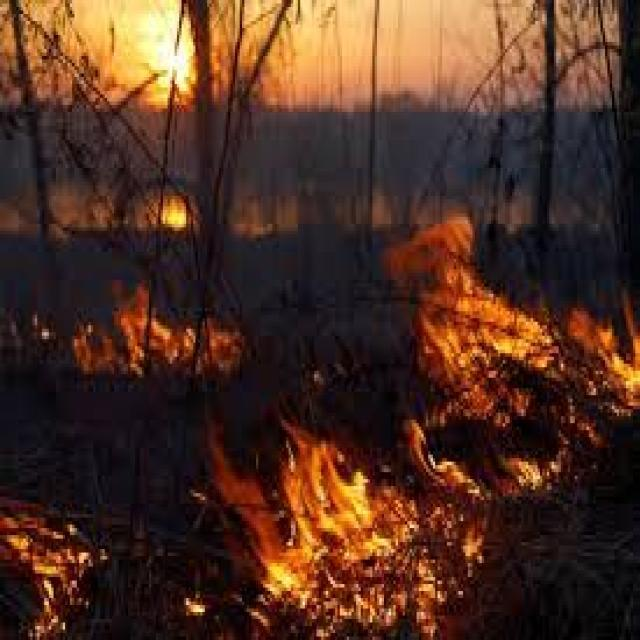Fire: (408, 217, 636, 483), (248, 488, 467, 632), (76, 308, 246, 378), (4, 504, 87, 632)
